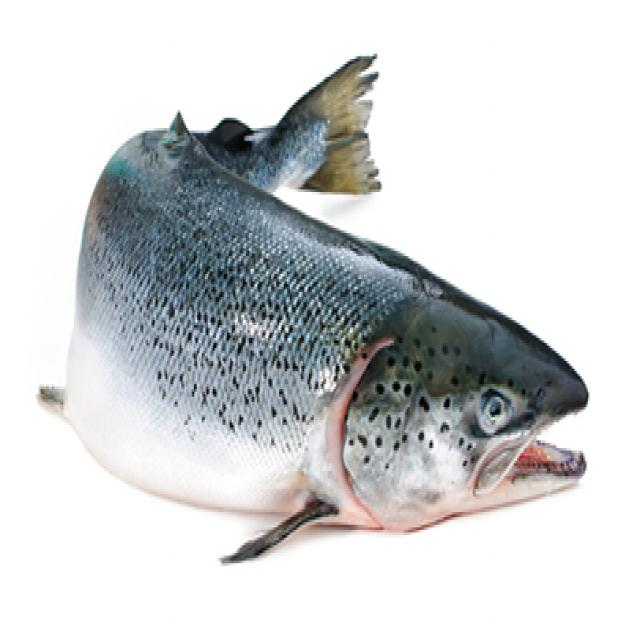salmon: (18, 47, 604, 565)
